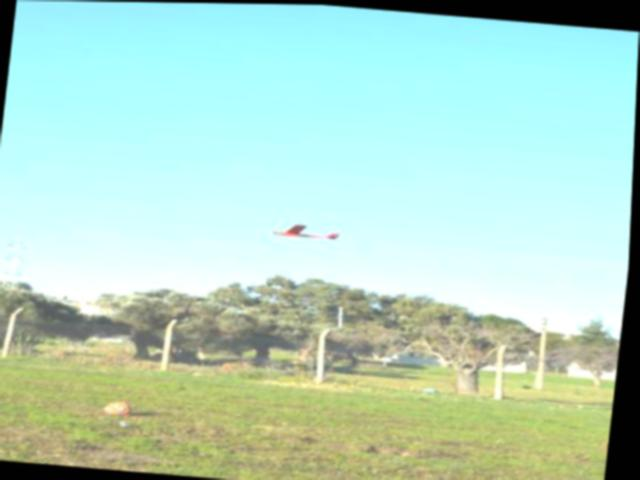iha: (263, 214, 344, 249)
